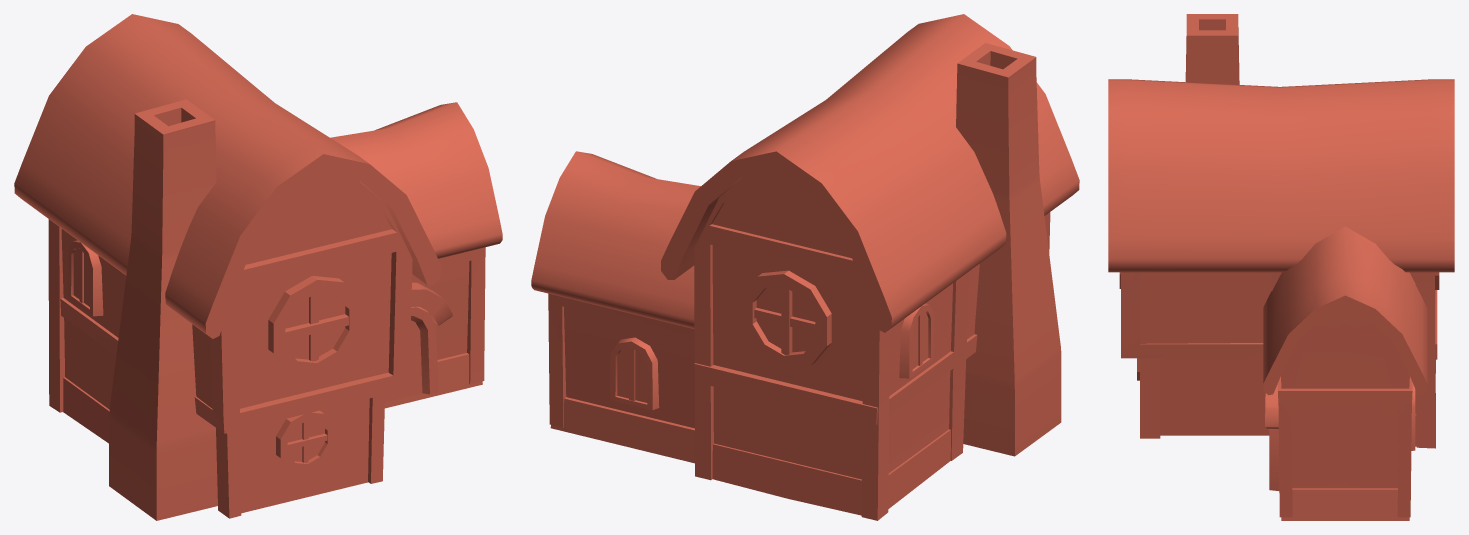
The model's file is House Big11.fbx.
The picture shows the model from 3 angles, left to right: view 1: azimuth 30°, elevation 25°; view 2: azimuth 150°, elevation 25°; view 3: azimuth 270°, elevation 25°; orthographic projection. The views are drawn at different scales.
Visible parts, largest first — view 1: Cube.231; view 2: Cube.231; view 3: Cube.231.
Boxes of the visible parts, <box> form: Cube.231: <box>14,14,502,520</box>; Cube.231: <box>531,14,1079,520</box>; Cube.231: <box>1108,14,1454,520</box>.
Bounding box in the file's own units: 1.8 × 1.65 × 1.5.
